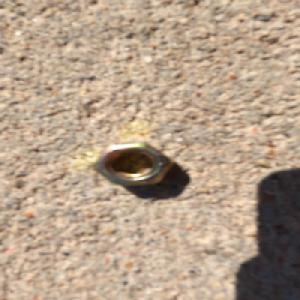Nut: (90, 141, 173, 189)
